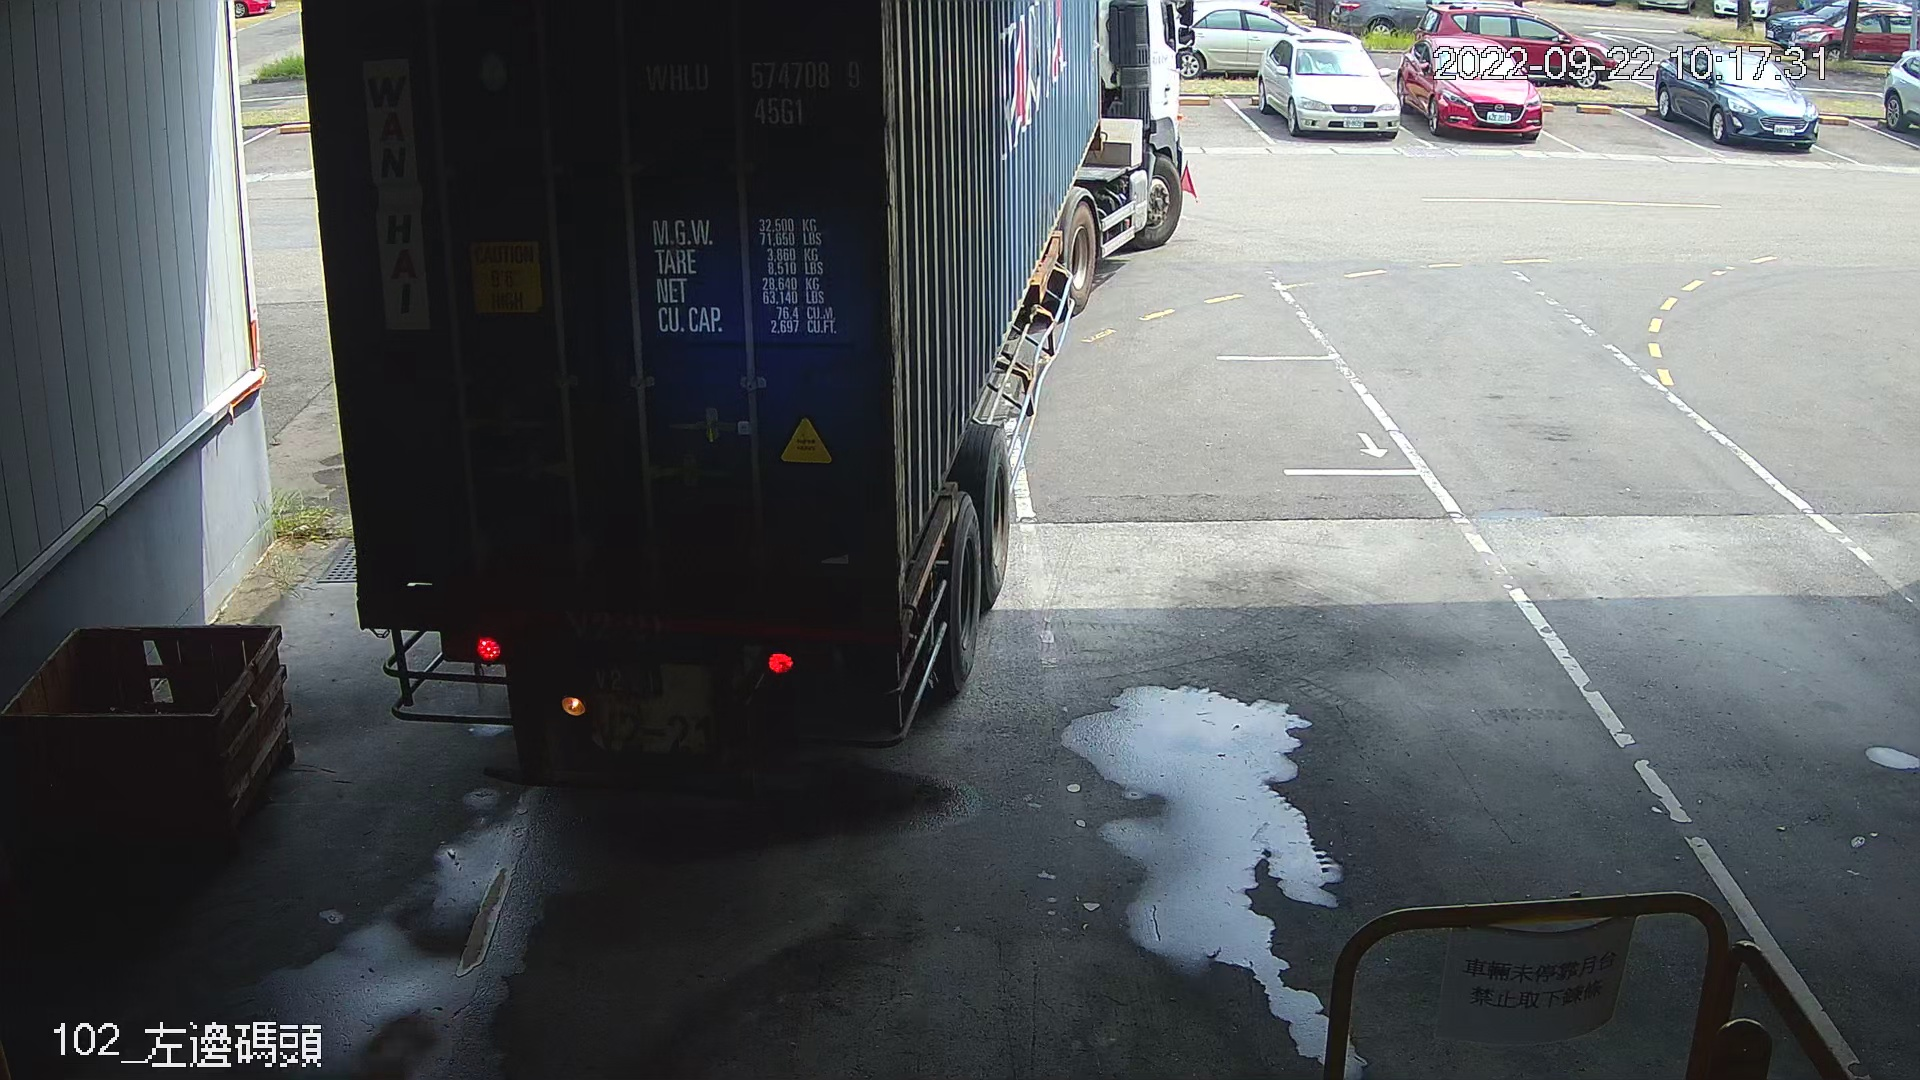container: (626, 49, 876, 133)
